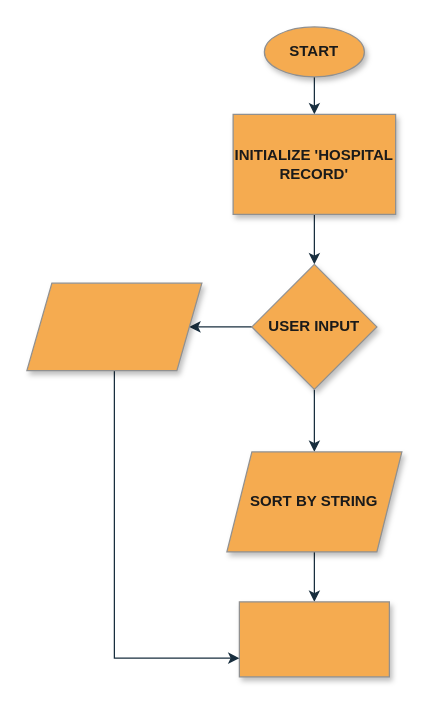
Image size: 431x708. Some labels were removed from this diagram. The shapes that lost their labels are listed below. From the top down, each one's centre as x and y in pixels, then its label:
At pixel 115 328: "SORT BY INTEGER".
At pixel 315 641: "PRINT SORTED RECORD".
